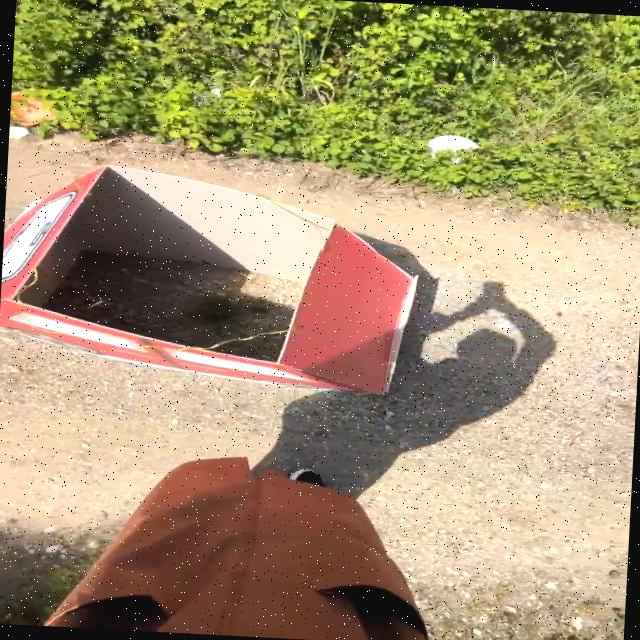red_car: (0, 140, 449, 416)
